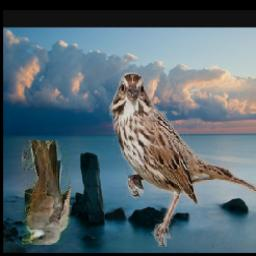Cuckoo: (21, 141, 70, 246)
Sparrow: (109, 72, 256, 248)
